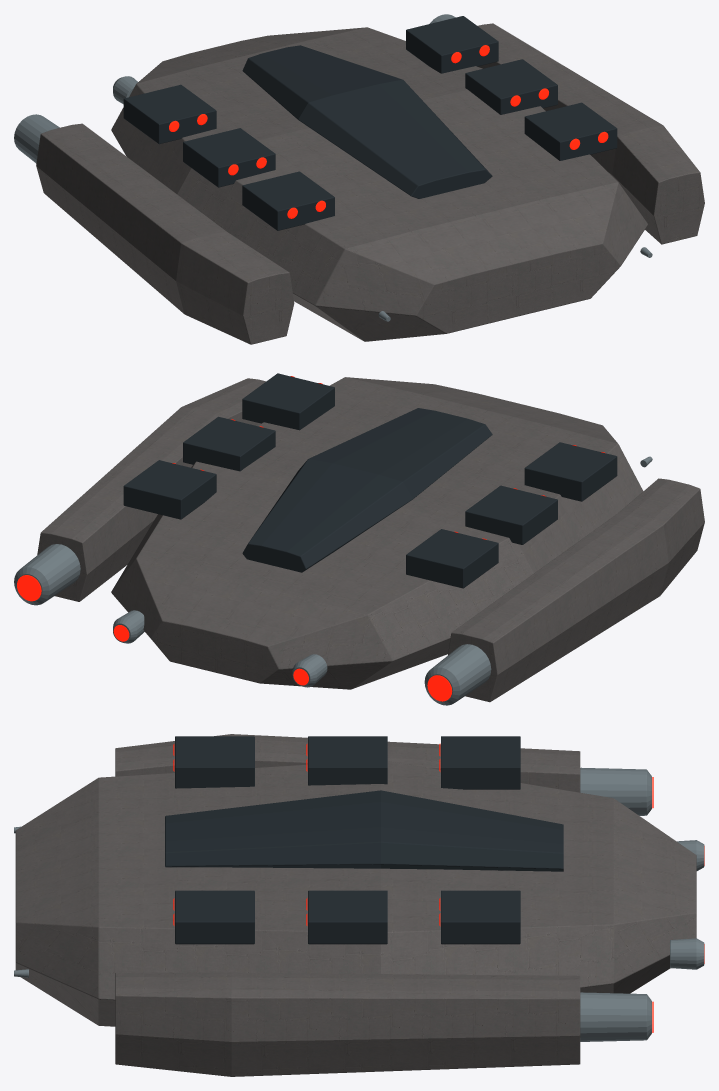
File: space_whale_scout.glb
3 renders of one model, top to bottom at view 1: azimuth 30°, elevation 25°; view 2: azimuth 150°, elevation 25°; view 3: azimuth 270°, elevation 25°, orthographic. The views are drawn at different scales.
Parts seen in each view (by area): view 1: whale_scout_surface_0, whale_scout_surface_1, whale_scout_surface_3, whale_scout_surface_2; view 2: whale_scout_surface_0, whale_scout_surface_1, whale_scout_surface_3, whale_scout_surface_2; view 3: whale_scout_surface_0, whale_scout_surface_1, whale_scout_surface_3.
Boxes of the visible parts, <box> form: whale_scout_surface_0: <box>36,23,704,344</box>; whale_scout_surface_1: <box>123,16,617,230</box>; whale_scout_surface_3: <box>14,14,652,321</box>; whale_scout_surface_2: <box>169,45,608,218</box>; whale_scout_surface_0: <box>37,377,704,702</box>; whale_scout_surface_1: <box>123,373,617,588</box>; whale_scout_surface_3: <box>14,456,652,705</box>; whale_scout_surface_2: <box>17,376,605,701</box>; whale_scout_surface_0: <box>15,734,696,1076</box>; whale_scout_surface_1: <box>165,736,563,944</box>; whale_scout_surface_3: <box>14,767,704,1041</box>.
Bounding box in the file's own units: 38.4 × 10.2 × 41.6.
5 materials, 1 textured.
